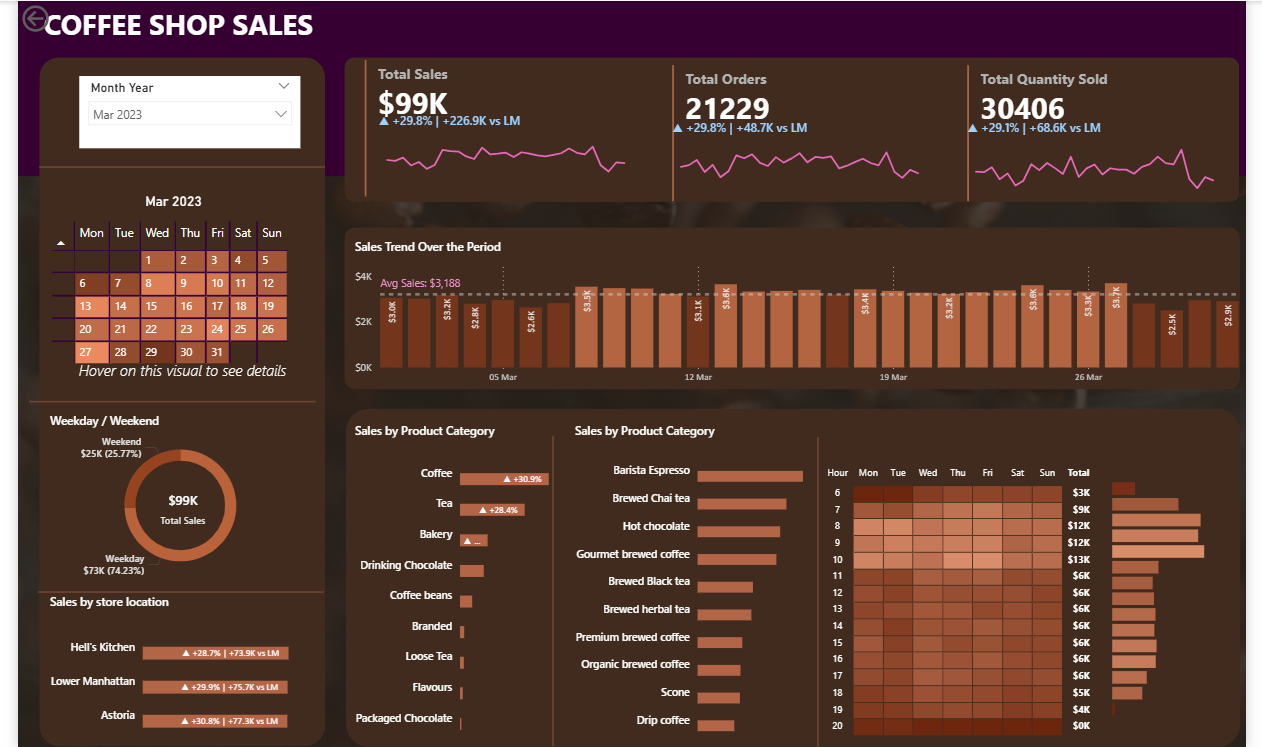

What the dashboard file says about the page in this screenshot:
{"tool":"powerbi","page":{"name":"Page 1","canvas":[1400,850],"ordinal":0},"visuals":[{"type":"shape","box":[373.2,464.3,1019.8,386],"z":0},{"type":"shape","box":[0,0,1400,199.6],"z":1000},{"type":"shape","box":[24,64.5,325.7,785],"z":2000},{"type":"shape","box":[372.2,64.5,1020,165.1],"z":3000},{"type":"textbox","box":[24,0,366.2,63],"z":4000},{"type":"cardVisual","fields":{"Data":["Transactions.Total Sales"]},"box":[390.2,63,300.2,165.1],"z":4000,"group":"g1"},{"type":"cardVisual","fields":{"Data":["Transactions.Total Orders"]},"box":[741.1,68.1,300.2,165.1],"z":4000,"group":"g2"},{"type":"cardVisual","fields":{"Data":["Transactions.Total Quantity Sold"]},"box":[1077,68.1,300.2,165.1],"z":4000,"group":"g3"},{"type":"slicer","fields":{"Values":["Date Table.Month Year"]},"box":[69.8,85.5,252.1,82.6],"z":5000},{"type":"group","id":"g1","title":"Group 1","box":[390.2,63,315.2,165.1],"z":6000},{"type":"lineChart","fields":{"Category":["Date Table.Date.Variation.Date Hierarchy.Year","Date Table.Date.Variation.Date Hierarchy.Quarter","Date Table.Date.Variation.Date Hierarchy.Month","Date Table.Date.Variation.Date Hierarchy.Day"],"Y":["Transactions.Total Sales"]},"box":[405.8,126.9,300.2,85.5],"z":6000,"group":"g1"},{"type":"lineChart","fields":{"Category":["Date Table.Date.Variation.Date Hierarchy.Year","Date Table.Date.Variation.Date Hierarchy.Quarter","Date Table.Date.Variation.Date Hierarchy.Month","Date Table.Date.Variation.Date Hierarchy.Day"],"Y":["Transactions.Total Orders"]},"box":[741.1,135.6,300.2,85.5],"z":6000,"group":"g2"},{"type":"lineChart","fields":{"Category":["Date Table.Date.Variation.Date Hierarchy.Year","Date Table.Date.Variation.Date Hierarchy.Quarter","Date Table.Date.Variation.Date Hierarchy.Month","Date Table.Date.Variation.Date Hierarchy.Day"],"Y":["Transactions.Total Quantity Sold"]},"box":[1077,135.6,300.2,85.5],"z":6000,"group":"g3"},{"type":"group","id":"g2","title":"Group 1","box":[741.1,68.1,300.2,165.1],"z":7000},{"type":"group","id":"g3","title":"Group 1","box":[1077,68.1,300.2,165.1],"z":8000},{"type":"pivotTable","fields":{"Rows":["Date Table.Week Number"],"Columns":["Date Table.Day Name"],"Values":["Min(Date Table.Day Number)"]},"box":[34.5,246.1,304.7,190.6],"z":9000},{"type":"card","fields":{"Values":["Min(Date Table.Month Year)"]},"box":[133.6,211.6,87.1,34.5],"z":10000},{"type":"card","fields":{"Values":["Transactions.Foot Note"]},"box":[54,408.2,267.2,28.5],"z":11000},{"type":"actionButton","box":[0,0,100,40],"z":12000},{"type":"shape","box":[12.8,447.2,326.2,18.5],"z":13000},{"type":"shape","box":[24,180.1,325.7,19.5],"z":14000},{"type":"donutChart","title":"Weekday / Weekend","fields":{"Category":["Date Table.Weekday / Weekend"],"Y":["Transactions.Total Sales"]},"box":[31.5,468.3,307.7,195.1],"z":15000},{"type":"card","fields":{"Values":["Transactions.Total Sales"]},"box":[130.6,544.8,114.1,64.5],"z":16000},{"type":"shape","box":[22.5,663.4,325.7,19.5],"z":17000},{"type":"clusteredBarChart","title":"Sales by Product Category","fields":{"Y":["Transactions.Placeholder","Transactions.Total Sales"],"Category":["Transactions.product_category"]},"box":[378.9,480,252.1,370.3],"z":18000},{"type":"clusteredBarChart","title":"Sales by store location","fields":{"Category":["Transactions.store_location"],"Y":["Transactions.Placeholder","Transactions.Total Sales"]},"box":[31.3,675.1,307.6,175.2],"z":19000},{"type":"shape","box":[372.2,258.1,1020.6,185],"z":20000},{"type":"columnChart","title":"Sales Trend Over the Period","fields":{"Category":["Transactions.transaction_date"],"Y":["Transactions.Total Sales"]},"box":[378.9,270.6,1021.2,175.2],"z":21000},{"type":"shape","box":[598.2,495.6,22.8,353.2],"z":21001},{"type":"clusteredBarChart","title":"Sales by Product Category","fields":{"Y":["Transactions.Placeholder","Transactions.Total Sales"],"Category":["Transactions.product_type"]},"box":[629.5,480,293.4,370.3],"z":21002},{"type":"shape","box":[900.1,497.1,22.8,353.2],"z":21003},{"type":"pivotTable","fields":{"Rows":["Transactions.Hour"],"Columns":["Date Table.Day Name"],"Values":["Transactions.Total Sales"]},"box":[911.5,525.6,370.3,323.3],"z":21004},{"type":"barChart","fields":{"Category":["Transactions.Hour"],"Y":["Transactions.Total Sales"]},"box":[1242,535.5,135.3,283.4],"z":21005}]}

Visuals, with their boxes in screenshot pixels (x1, y1, x2, y2), scaled from the page's 1400x850 canvas onto the 1262x747 screenshot:
shape: Rect(336, 408, 1256, 746)
shape: Rect(0, 0, 1261, 175)
shape: Rect(22, 57, 315, 746)
shape: Rect(336, 57, 1255, 202)
textbox: Rect(22, 0, 352, 55)
cardVisual - Transactions.Total Sales: Rect(352, 55, 622, 200)
cardVisual - Transactions.Total Orders: Rect(668, 60, 939, 205)
cardVisual - Transactions.Total Quantity Sold: Rect(971, 60, 1241, 205)
slicer - Date Table.Month Year: Rect(63, 75, 290, 148)
"Group 1" group: Rect(352, 55, 636, 200)
lineChart - Date Table.Date.Variation.Date Hierarchy.Year x Date Table.Date.Variation.Date Hierarchy.Quarter: Rect(366, 112, 636, 187)
lineChart - Date Table.Date.Variation.Date Hierarchy.Year x Date Table.Date.Variation.Date Hierarchy.Quarter: Rect(668, 119, 939, 194)
lineChart - Date Table.Date.Variation.Date Hierarchy.Year x Date Table.Date.Variation.Date Hierarchy.Quarter: Rect(971, 119, 1241, 194)
"Group 1" group: Rect(668, 60, 939, 205)
"Group 1" group: Rect(971, 60, 1241, 205)
pivotTable - Date Table.Week Number x Date Table.Day Name: Rect(31, 216, 306, 384)
card - Min(Date Table.Month Year): Rect(120, 186, 199, 216)
card - Transactions.Foot Note: Rect(49, 359, 290, 384)
actionButton: Rect(0, 0, 90, 35)
shape: Rect(12, 393, 306, 409)
shape: Rect(22, 158, 315, 175)
"Weekday / Weekend" donutChart: Rect(28, 412, 306, 583)
card - Transactions.Total Sales: Rect(118, 479, 221, 535)
shape: Rect(20, 583, 314, 600)
"Sales by Product Category" clusteredBarChart: Rect(342, 422, 569, 746)
"Sales by store location" clusteredBarChart: Rect(28, 593, 305, 746)
shape: Rect(336, 227, 1256, 389)
"Sales Trend Over the Period" columnChart: Rect(342, 238, 1261, 392)
shape: Rect(539, 436, 560, 746)
"Sales by Product Category" clusteredBarChart: Rect(567, 422, 832, 746)
shape: Rect(811, 437, 832, 746)
pivotTable - Transactions.Hour x Date Table.Day Name: Rect(822, 462, 1155, 746)
barChart - Transactions.Hour x Transactions.Total Sales: Rect(1120, 471, 1242, 720)
